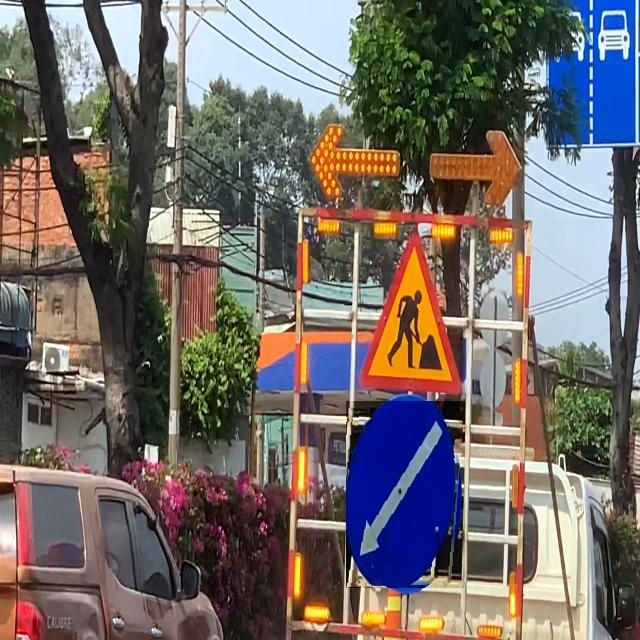bien_hieu_lenh: (346, 401, 465, 588)
